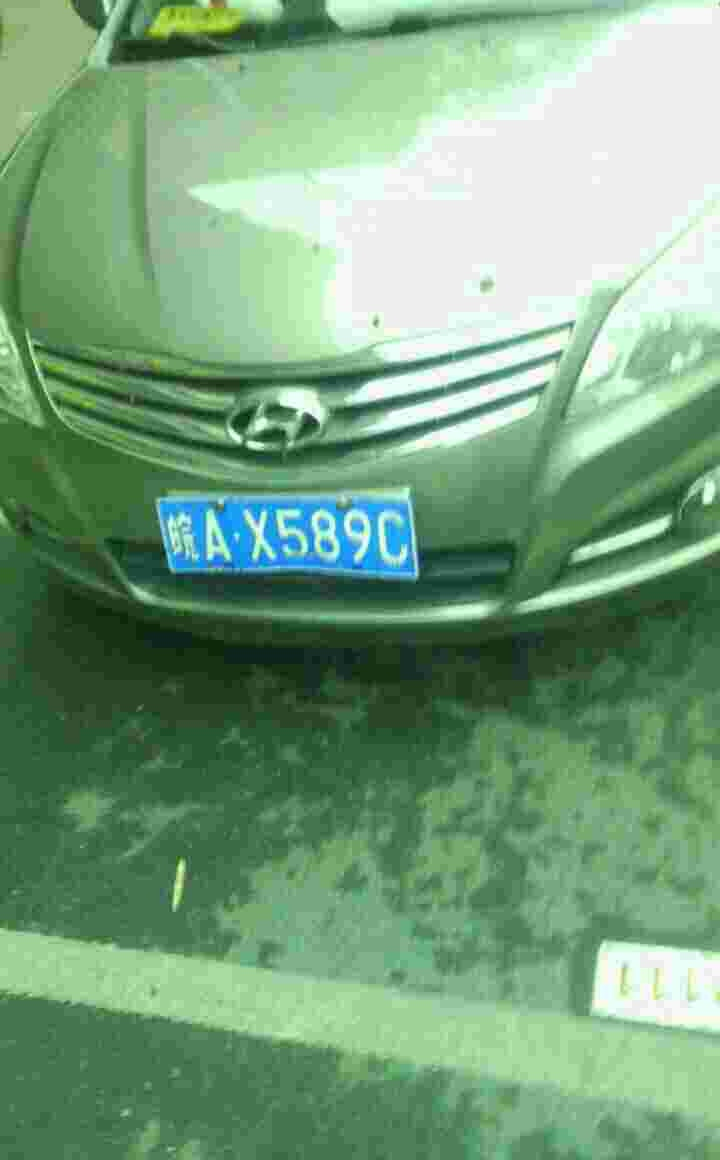plate: (156, 492, 426, 578)
